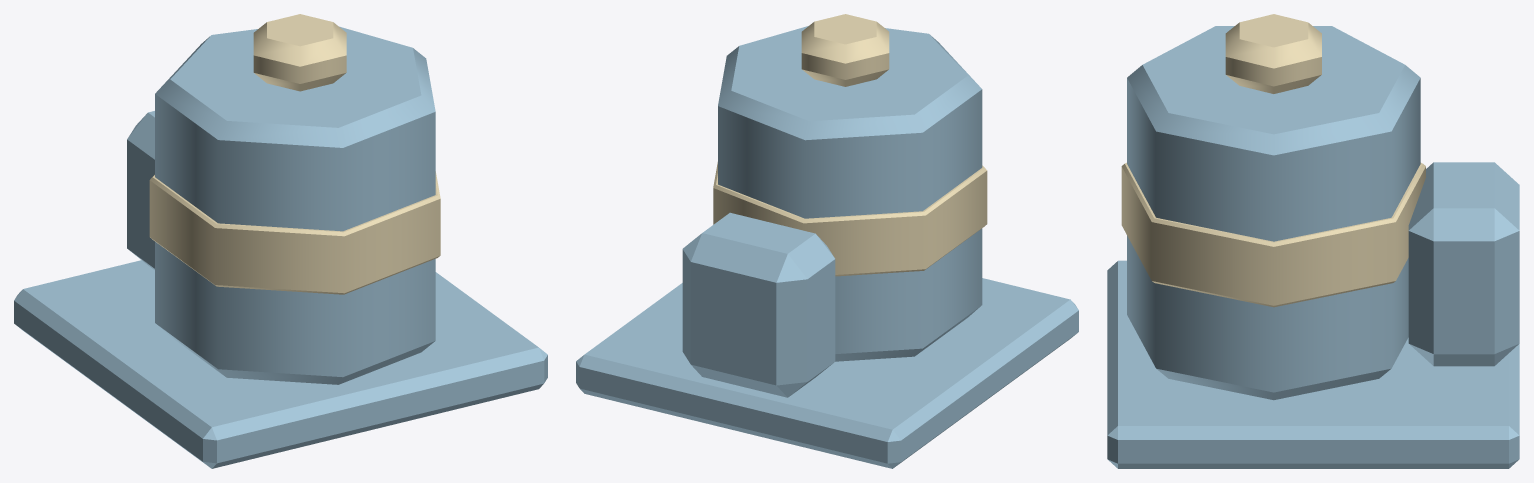
The model's file is R4X_Battery_LOD1.glb.
3 renders of one model, left to right at view 1: azimuth 30°, elevation 25°; view 2: azimuth 150°, elevation 25°; view 3: azimuth 270°, elevation 25°, orthographic. The views are drawn at different scales.
Visible parts, largest first — view 1: R4X_Battery_LOD1; view 2: R4X_Battery_LOD1; view 3: R4X_Battery_LOD1.
Part boxes in pixels (left/top/right/bottom): R4X_Battery_LOD1: left=14, top=14, right=547, bottom=468; R4X_Battery_LOD1: left=576, top=14, right=1078, bottom=468; R4X_Battery_LOD1: left=1107, top=14, right=1519, bottom=468.
Bounding box in the file's own units: 0.52 × 0.495 × 0.52.
